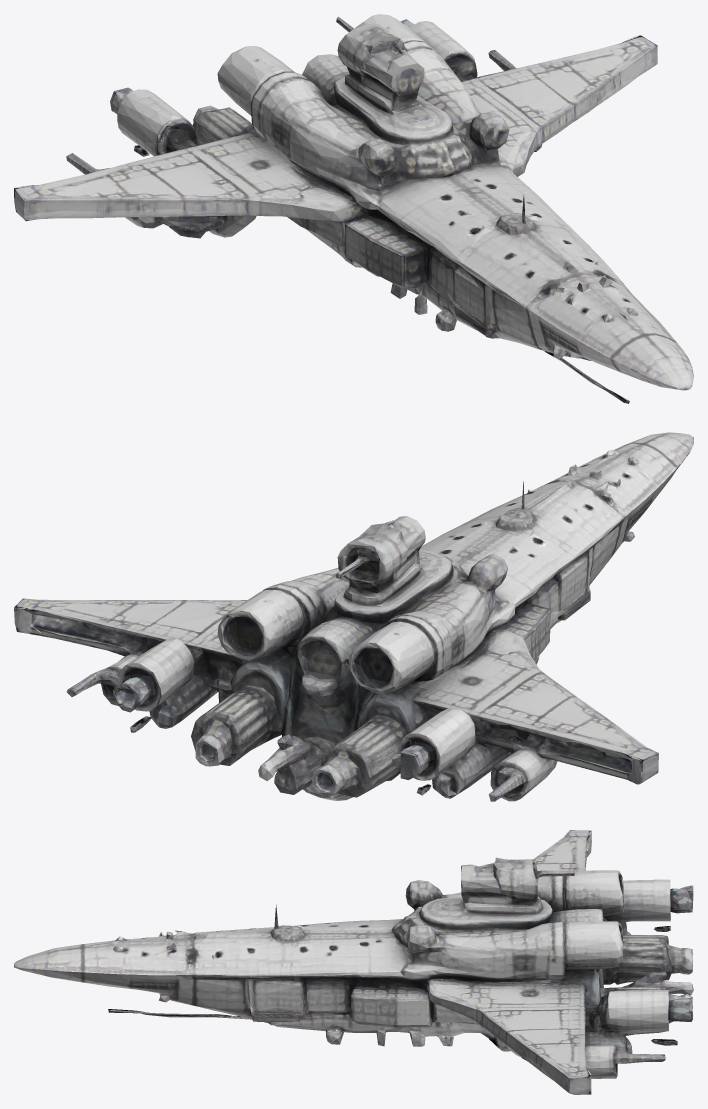
The model's file is Snowbird Gunship.glb.
The picture shows the model from 3 angles, top to bottom: view 1: azimuth 30°, elevation 25°; view 2: azimuth 150°, elevation 25°; view 3: azimuth 270°, elevation 25°; orthographic projection. The views are drawn at different scales.
Visible parts, largest first — view 1: world; view 2: world; view 3: world.
Part boxes in pixels (<box>): world: <box>14,14,693,403</box>; world: <box>14,432,693,801</box>; world: <box>14,830,693,1094</box>.
Bounding box in the file's own units: 0.8681 × 0.2999 × 1.
1 material, 1 textured.
